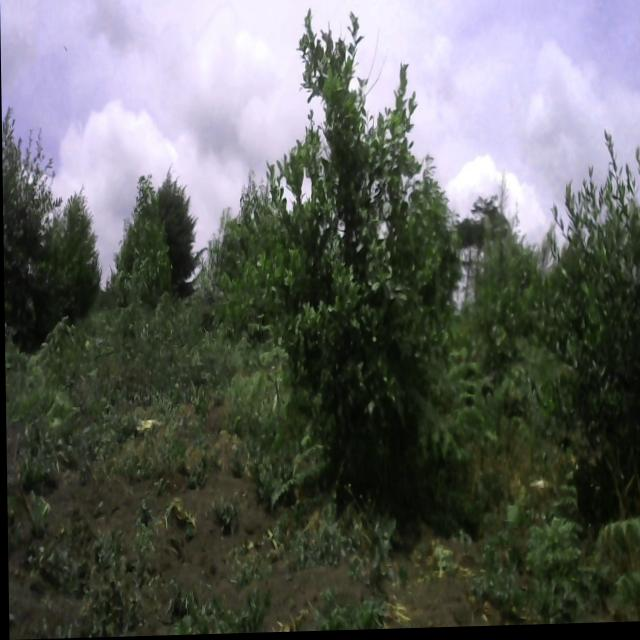cedrus: (149, 162, 204, 288), (62, 172, 103, 320)
other: (215, 22, 473, 508), (553, 134, 640, 544), (1, 107, 105, 323), (125, 159, 171, 307)
